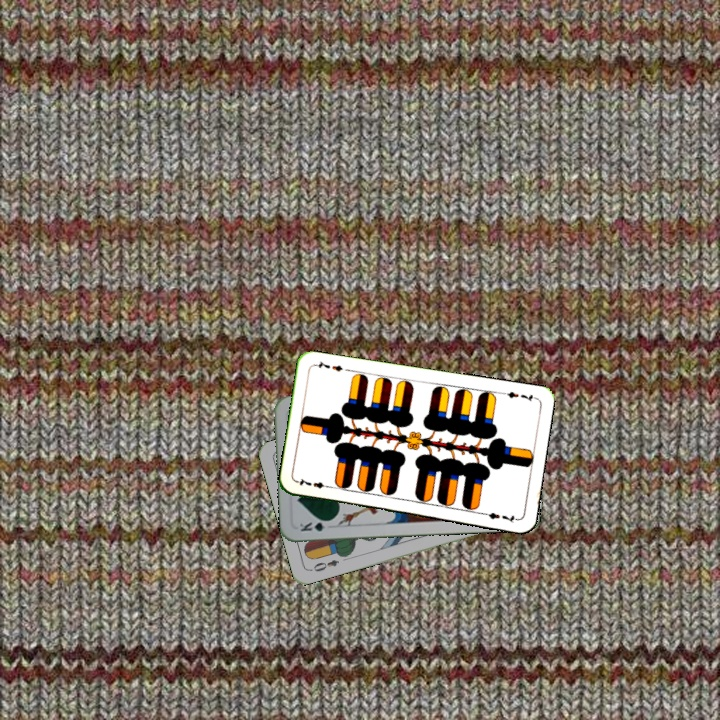E7: (293, 475, 334, 491), (498, 388, 538, 404)
EO: (306, 556, 341, 574)
GK: (296, 516, 335, 534)
